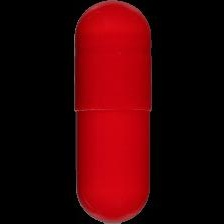53217-207: (0, 0, 224, 224)
